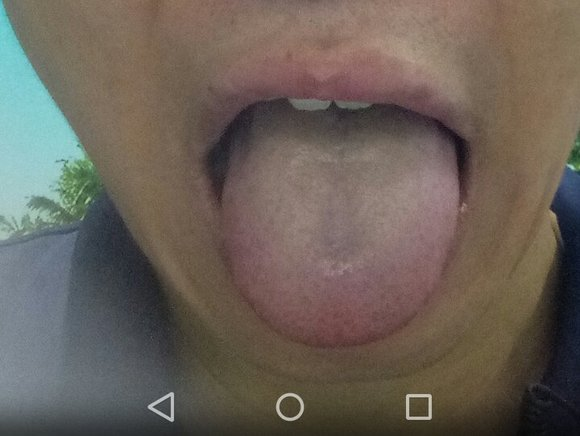huangtaishe: (221, 99, 459, 347)
piweiao: (289, 192, 386, 279)
